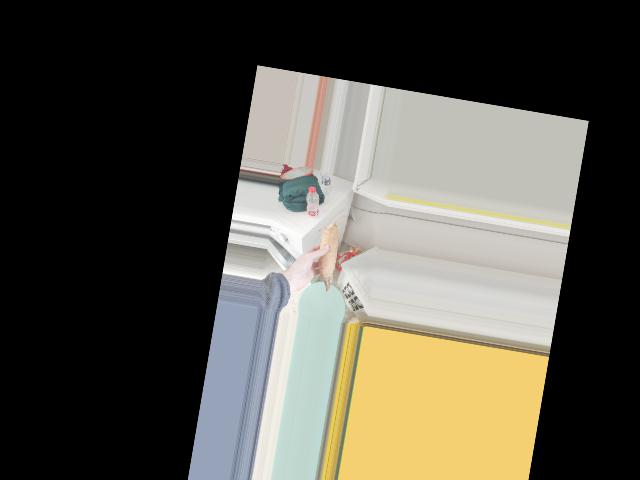sweet_potato: (310, 225, 342, 288)
